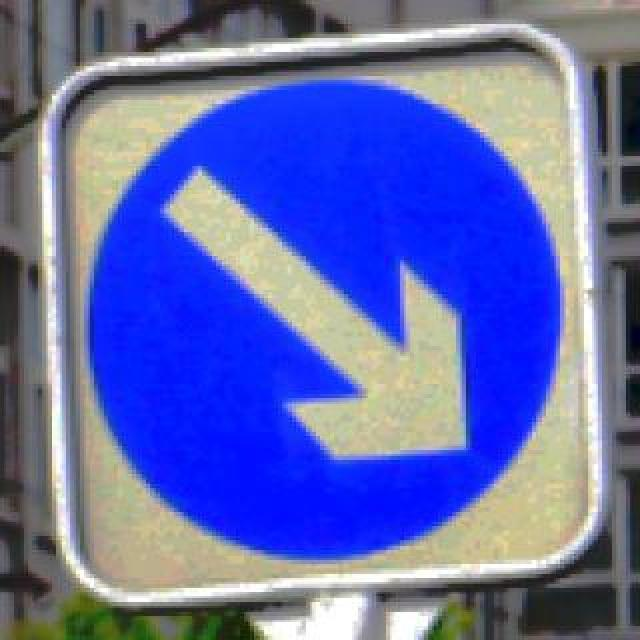keep right: (84, 76, 560, 560)
